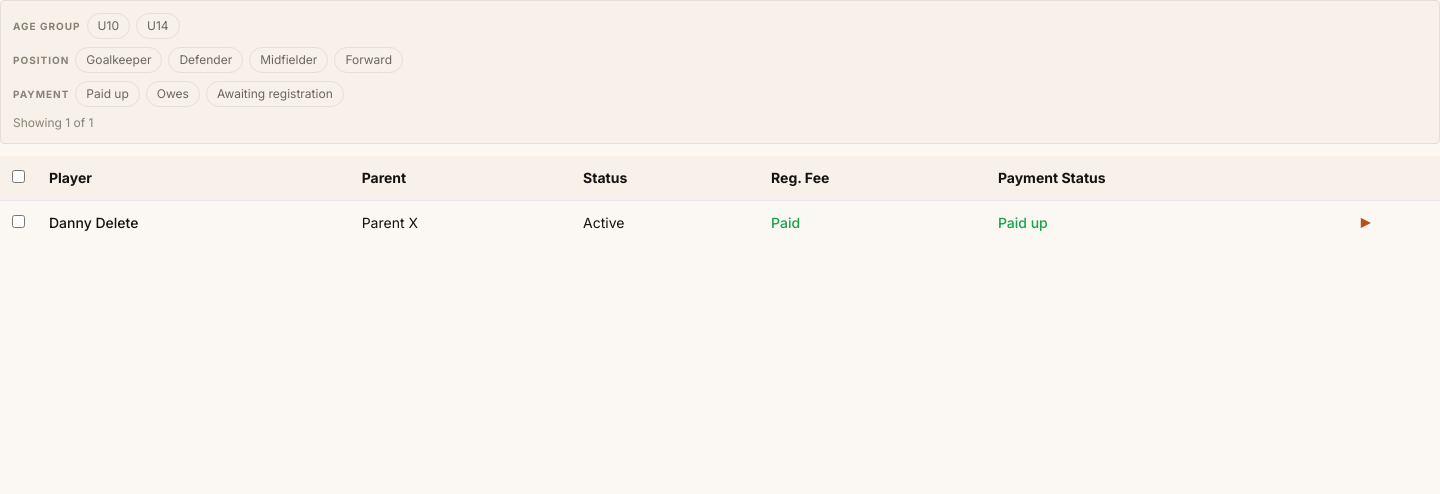
PlayersTable local updates (no reload) › removes a player locally after delete, no server refetch needed
This screenshot has width=1440, height=494.
Click the button named "expand row" at (1365, 222), box x1=1361 y1=213 x2=1370 y2=231
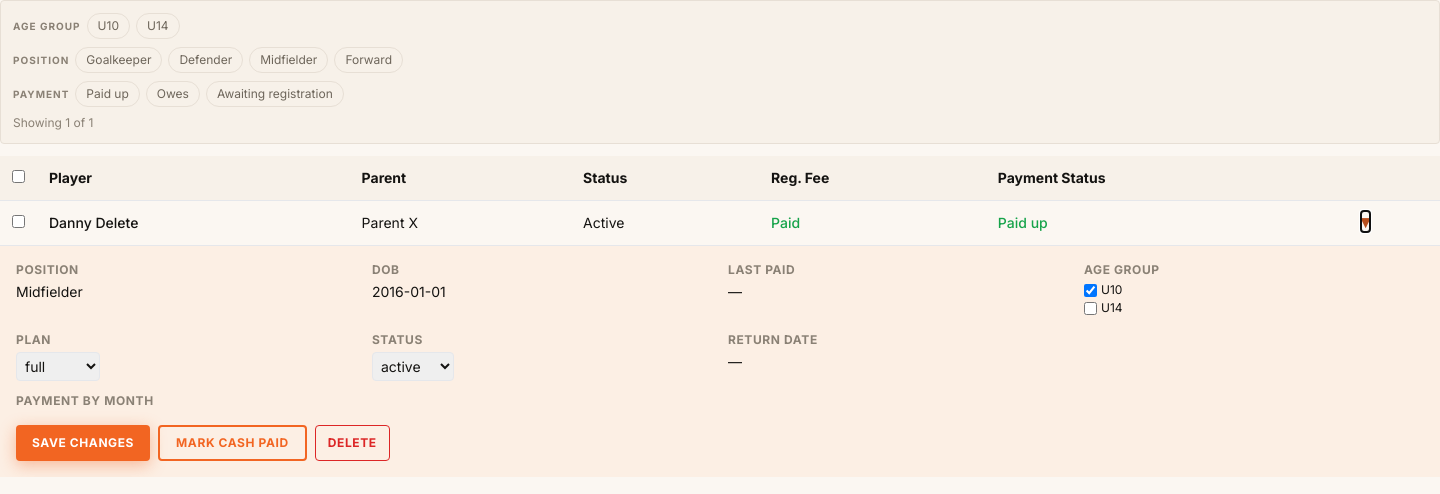
Click the button "Delete" at (352, 443), box x1=315 y1=425 x2=390 y2=461
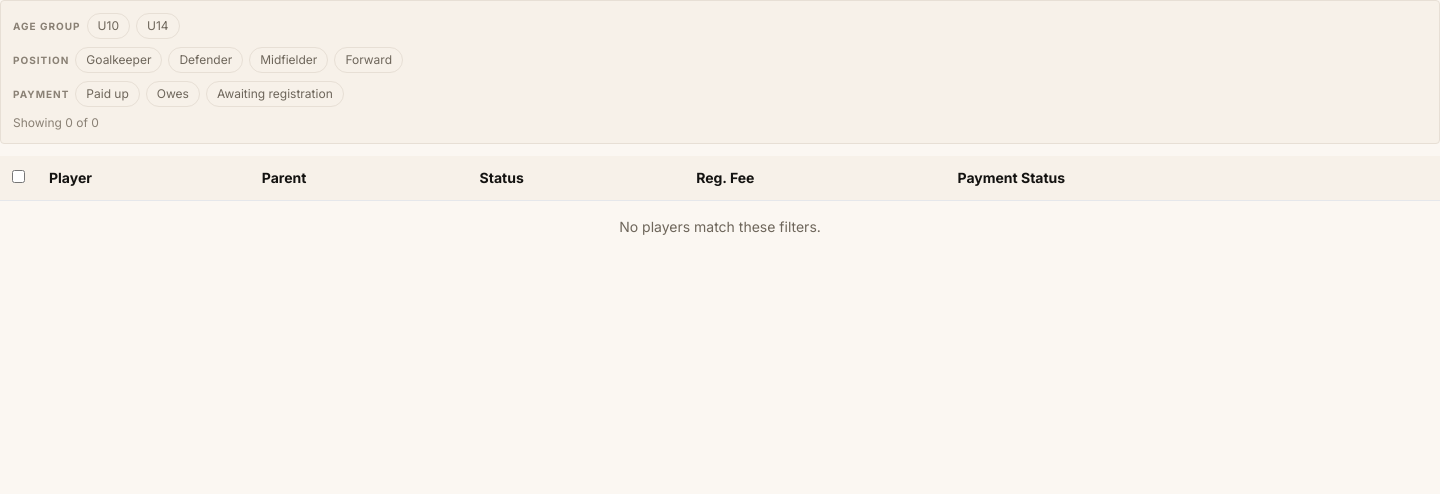
Now the text "Danny Delete" is gone
